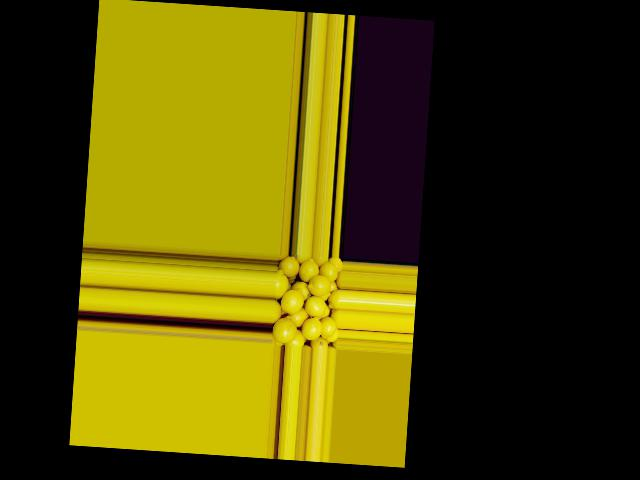lemon: (273, 266, 289, 298)
